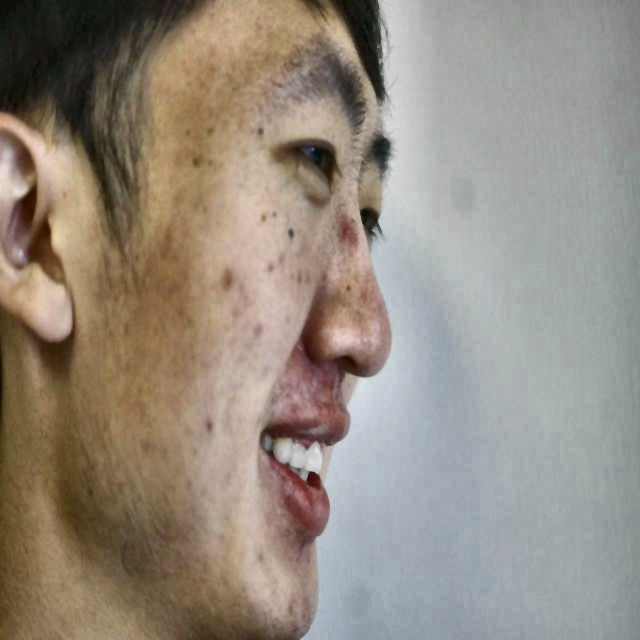comedone: (219, 258, 236, 304), (335, 212, 356, 248)
